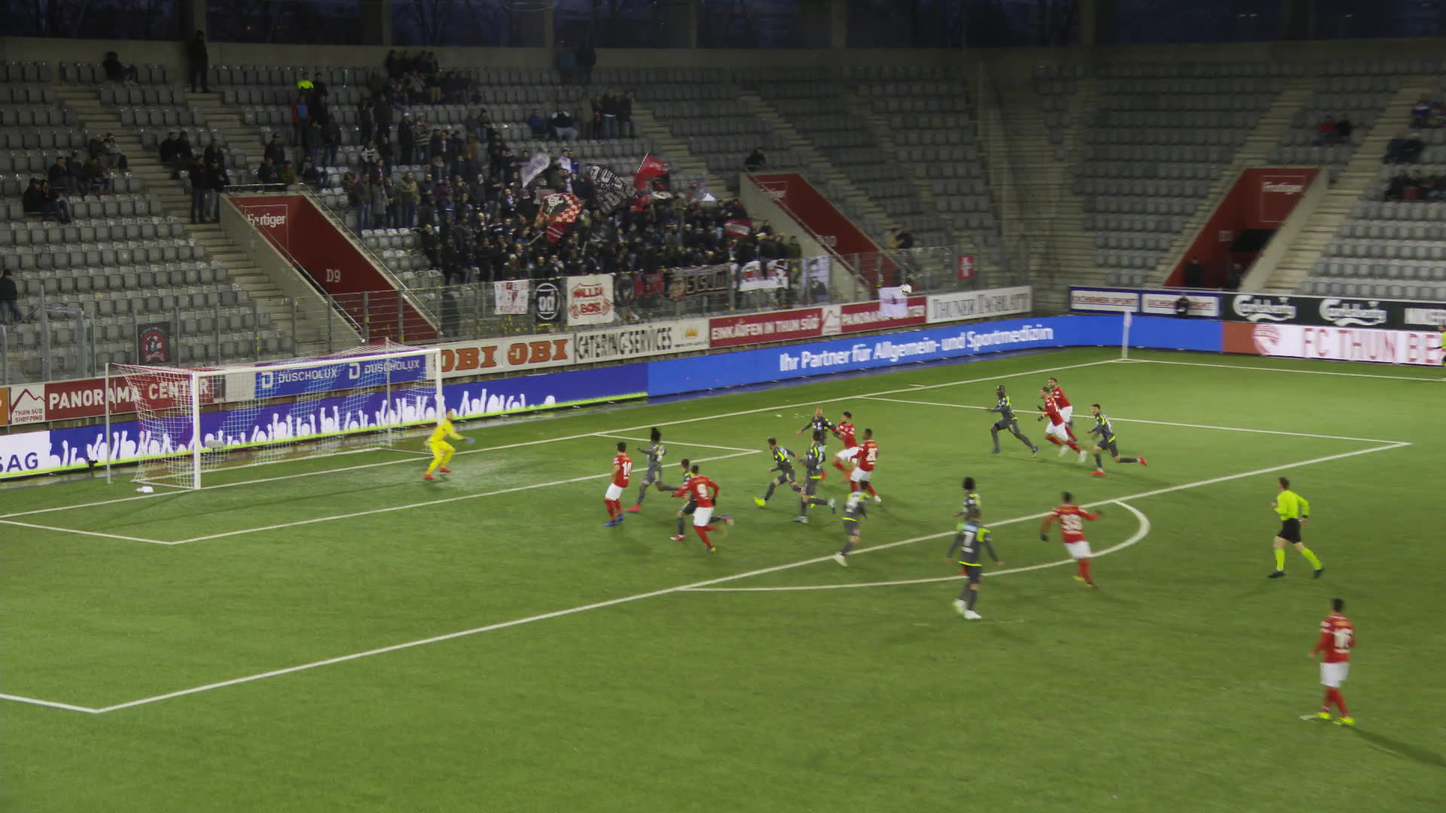ball: (901, 284, 915, 298)
player: (935, 506, 992, 619), (1032, 487, 1096, 586), (1299, 595, 1347, 722), (679, 461, 734, 550), (676, 455, 732, 540), (1077, 403, 1138, 478), (633, 428, 688, 511), (823, 480, 873, 565), (788, 426, 831, 522), (1036, 386, 1088, 464), (943, 473, 983, 568), (830, 409, 880, 483), (987, 382, 1036, 455), (761, 435, 811, 504), (422, 406, 461, 480), (844, 425, 882, 497), (798, 402, 843, 461), (605, 438, 635, 526), (1047, 376, 1078, 444)
referee: (1261, 476, 1319, 578), (1425, 324, 1445, 376)
